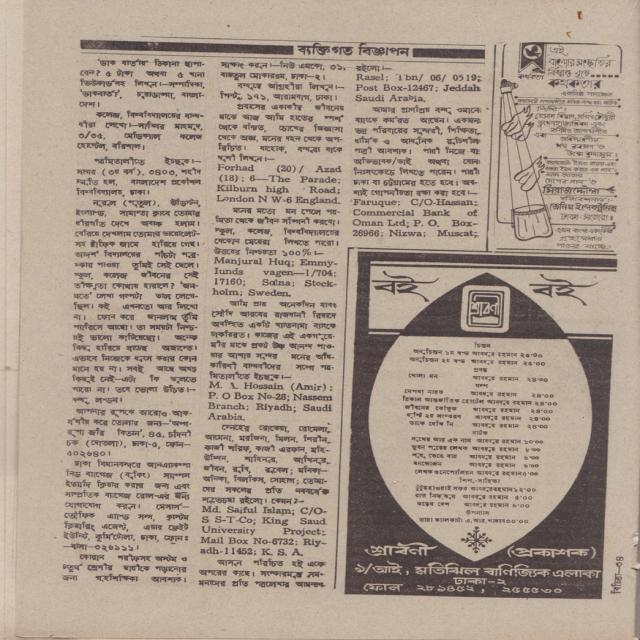advertisement: (344, 252, 617, 599), (494, 41, 623, 252)
page number: (615, 556, 625, 569)
paragraph: (71, 197, 203, 405), (351, 105, 484, 239), (201, 424, 330, 557), (206, 298, 338, 422), (215, 102, 345, 206), (60, 459, 194, 551), (212, 205, 341, 298), (77, 58, 207, 110), (65, 407, 194, 458), (75, 109, 206, 152), (74, 155, 205, 197), (219, 60, 346, 103), (354, 62, 484, 104), (197, 558, 328, 589), (60, 553, 188, 584)
text: (610, 574, 623, 595)
title: (297, 42, 413, 58)
